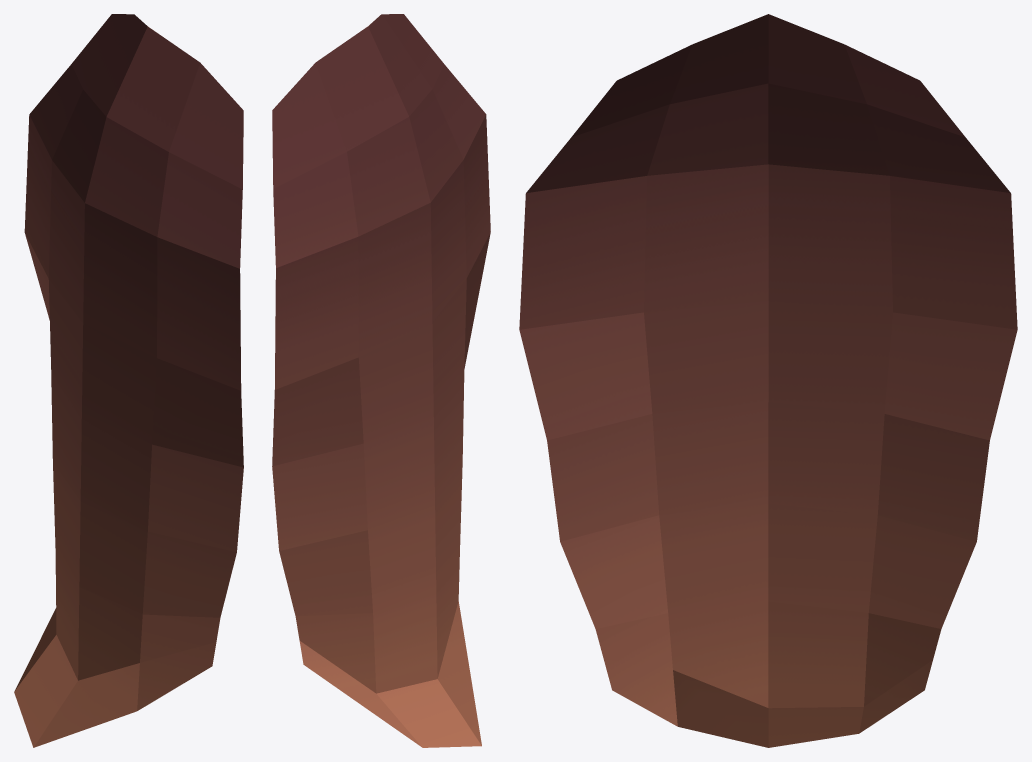
File: Vines.fbx
3 views of the same model, side by side, from view 1: azimuth 30°, elevation 25°; view 2: azimuth 150°, elevation 25°; view 3: azimuth 270°, elevation 25° (orthographic). The views are drawn at different scales.
Parts seen in each view (by area): view 1: Vine; view 2: Vine; view 3: Vine.
Part boxes in pixels (left/top/right/bottom): Vine: left=14, top=14, right=243, bottom=747; Vine: left=272, top=14, right=490, bottom=747; Vine: left=519, top=14, right=1017, bottom=747.
Size of the model in its own units: 94.79 by 435 by 246.
